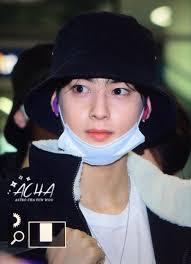earphone: (50, 98, 61, 118), (141, 108, 151, 123)
